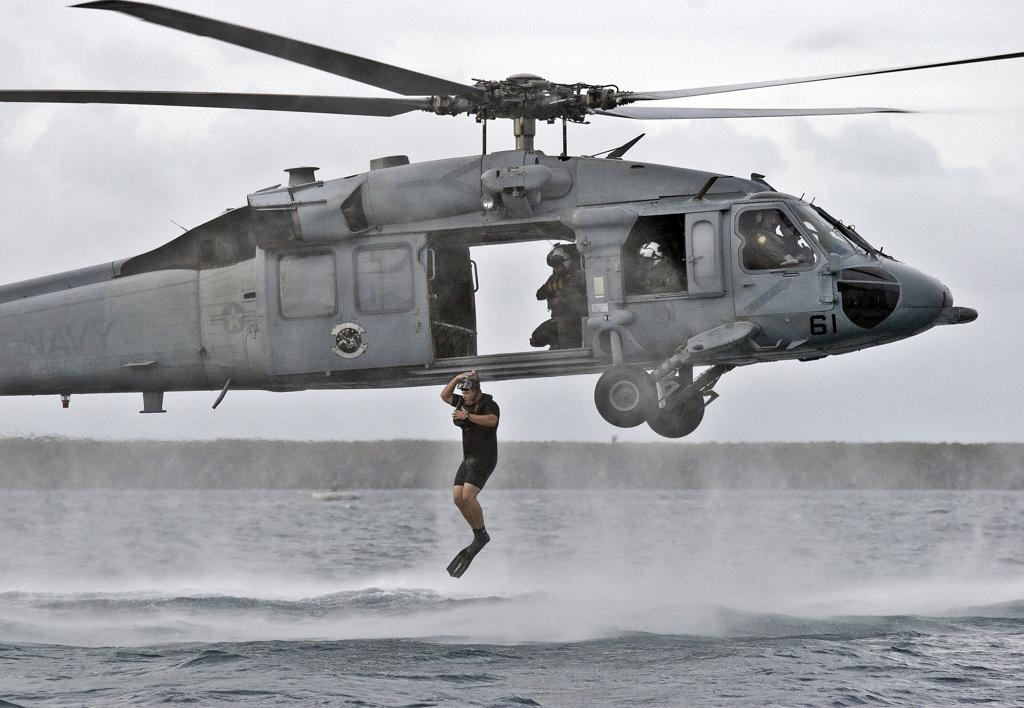face: (461, 390, 474, 406)
